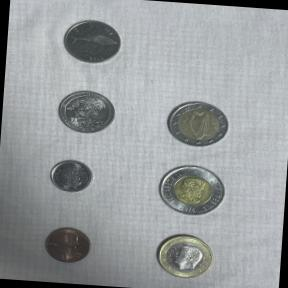1 Euro-B: (148, 228, 218, 282)
2 Euro-B: (160, 92, 237, 152)
Canada-10cent-B: (43, 154, 99, 198)
Canada-2Dollar-B: (150, 159, 235, 223)
Croatia-2Kune-B: (57, 13, 128, 71)
US-1cent-B: (35, 218, 99, 270)
US-25cent-B: (51, 84, 122, 139)
